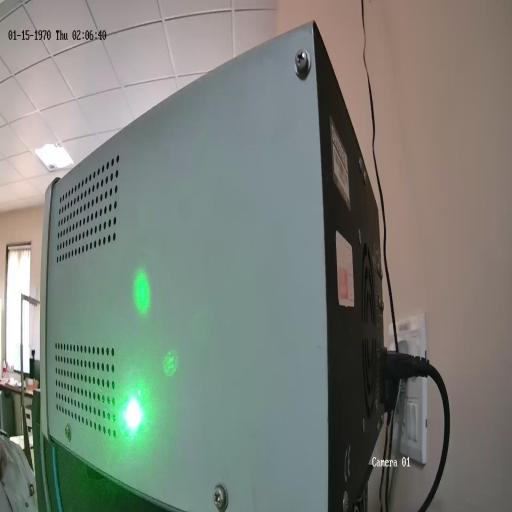laser: (121, 393, 146, 440)
